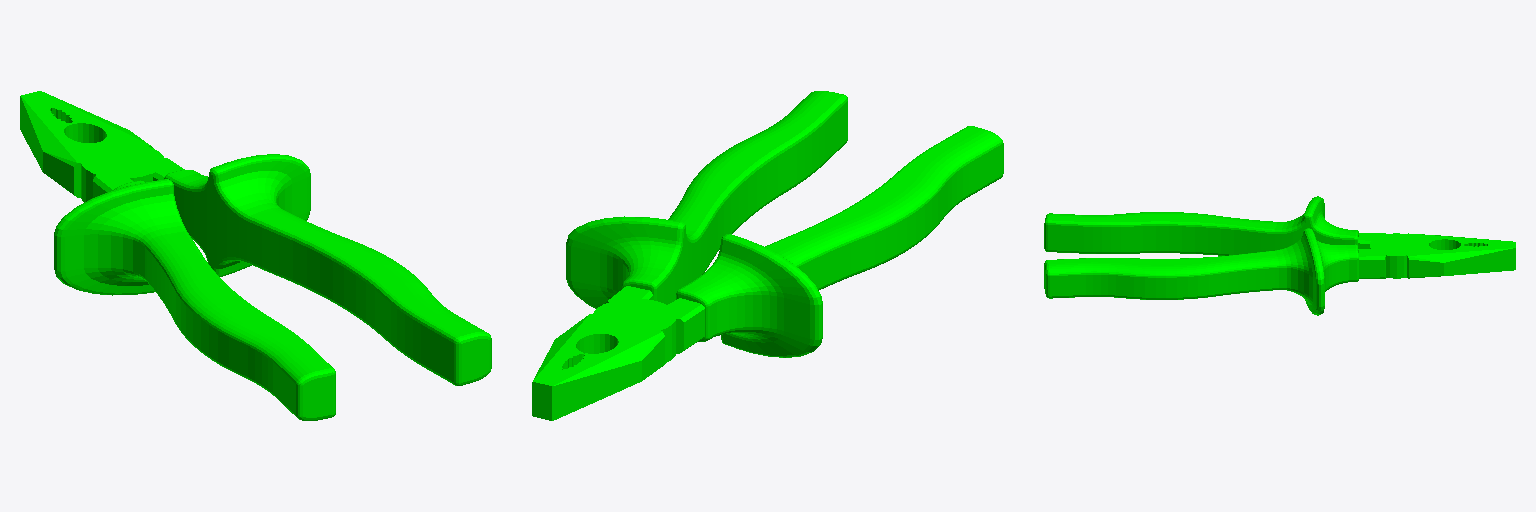
robot.urdf — block:

    <robot name="block">
      <link name="block_base_link">
        <inertial>
            <origin rpy="0 0 0" xyz="0 0 0"/>
            <mass value="0.1"/>
            <inertia ixx="0.1" ixy="0" ixz="0" iyy="0.1" iyz="0" izz="0.1"/>
        </inertial>
        
        <visual>
          <origin rpy="0 0 0" xyz="0 0 0"/>
          <geometry>
            <mesh filename="dataset/toolbox_cad/tn/wrench/05_raw.obj" scale="1 1 1"/>
          </geometry>
            <material name="0_1_0_1">
                <color rgba="0 1 0 1"/>
            </material>
        </visual>

        
        <collision>
          <origin rpy="0 0 0" xyz="0 0 0"/>
          <geometry>
            <mesh filename="dataset/toolbox_cad/tn/wrench/05_raw.obj" scale="1 1 1"/>
          </geometry>
            <material>
                <color rgba="0 1 0 1"/>
            </material>
        </collision>

      </link>
    </robot>

--- What the picture shows (computed from the rendered views, not written in the file) ---
3 views of the same robot in one strip: view 1: azimuth 30°, elevation 25°; view 2: azimuth 150°, elevation 25°; view 3: azimuth 270°, elevation 25° (orthographic).
Robot: block — 1 links, 0 joints (none); root link block_base_link; default pose: all joints at 0.
Visible links, largest first — view 1: block_base_link; view 2: block_base_link; view 3: block_base_link.
Boxes of the visible links, x1=… form: block_base_link: x1=20, y1=91, x2=491, y2=420; block_base_link: x1=532, y1=91, x2=1003, y2=420; block_base_link: x1=1044, y1=196, x2=1515, y2=315.
Size in the robot's own frame: 0.0723 by 0.18 by 0.0295 metres.
1 mesh visuals loaded from 1 distinct referenced files (1 OBJ).
